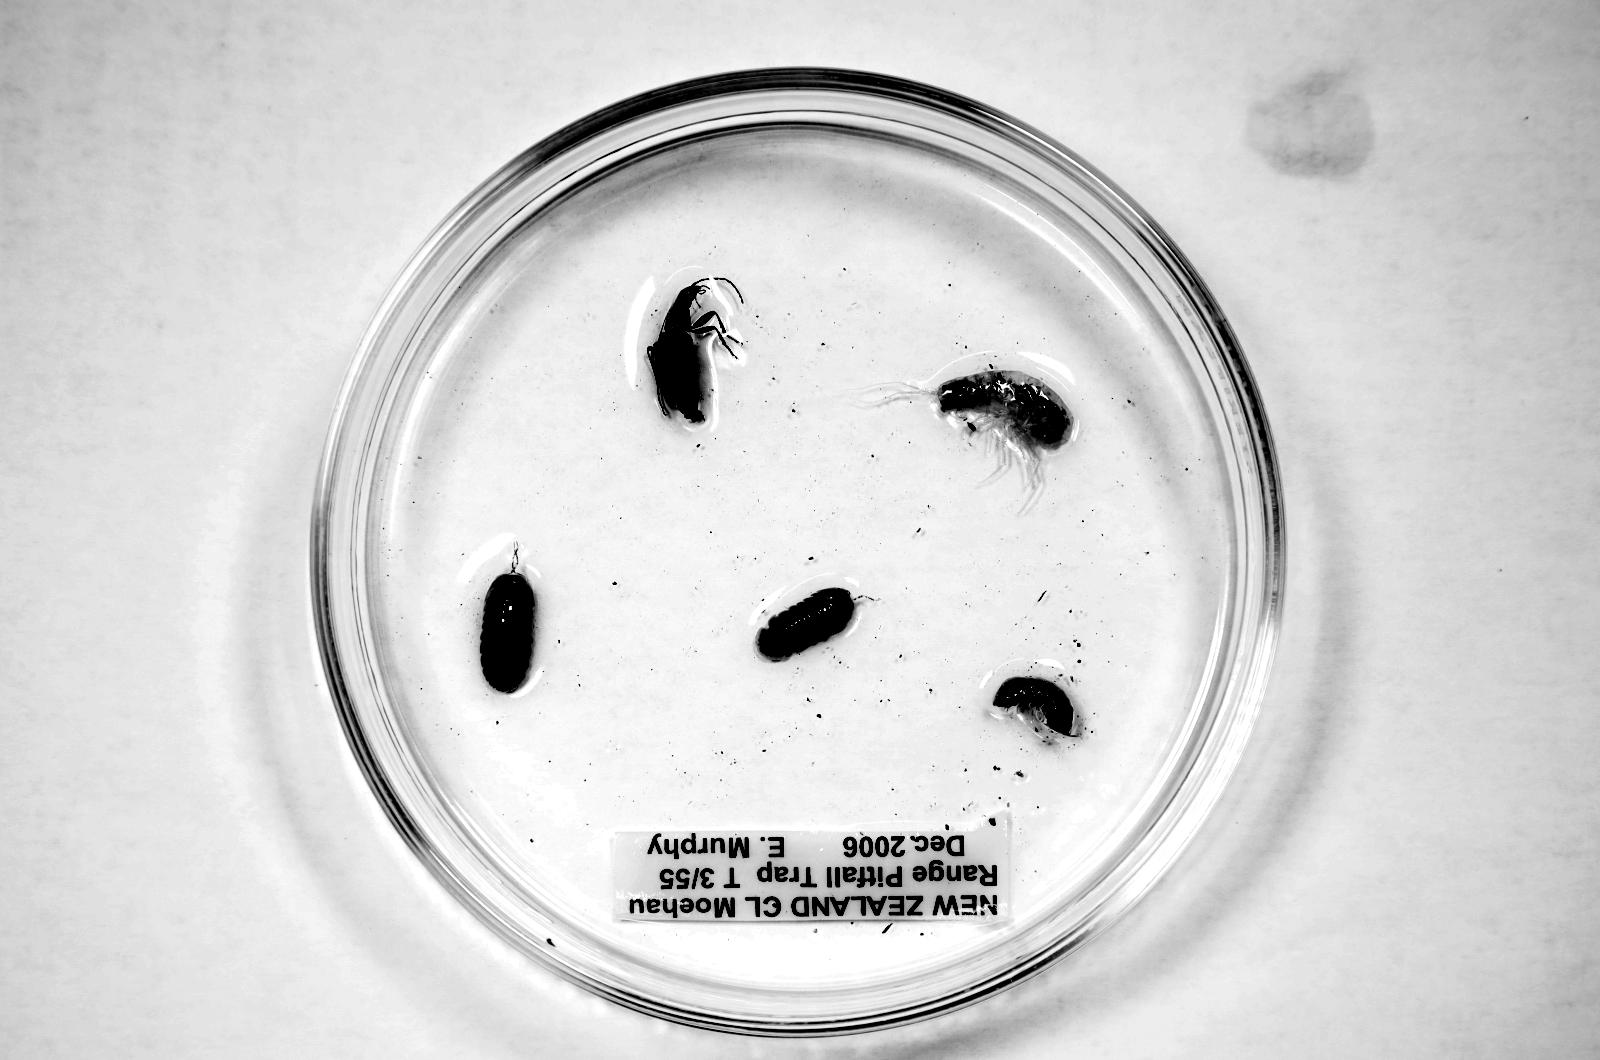amphipoda: (935, 369, 1074, 497)
carabidae: (647, 277, 745, 424)
isopoda: (757, 588, 854, 660), (481, 569, 535, 692), (993, 676, 1078, 735)
